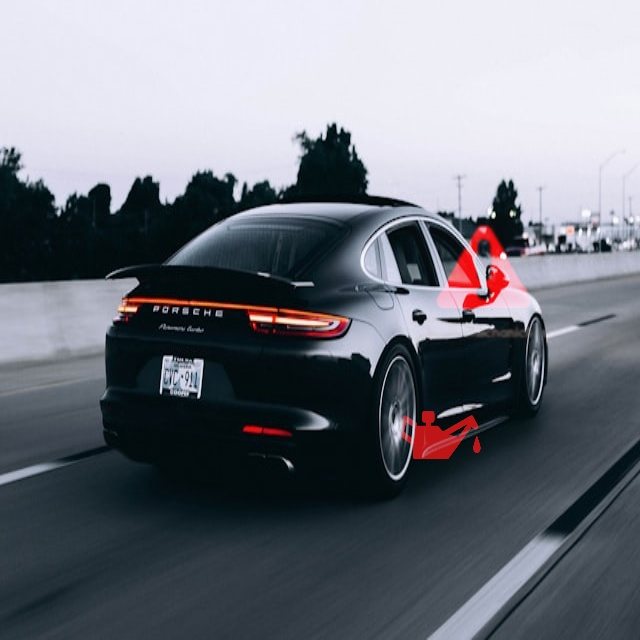symbol: (407, 192, 560, 345), (378, 368, 503, 493)
